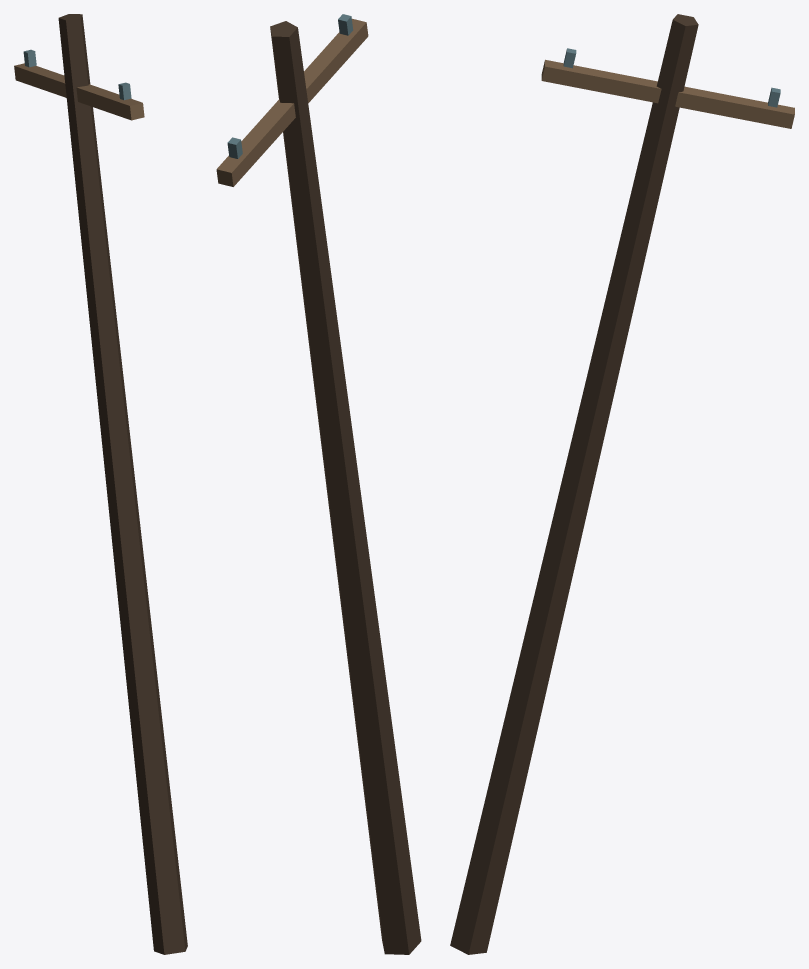
The model's file is power_pole_leaning_lod1.glb.
3 views of the same model, side by side, from view 1: azimuth 30°, elevation 25°; view 2: azimuth 150°, elevation 25°; view 3: azimuth 270°, elevation 25° (orthographic). The views are drawn at different scales.
Visible parts, largest first — view 1: power_pole_leaning_lod1; view 2: power_pole_leaning_lod1; view 3: power_pole_leaning_lod1.
Boxes of the visible parts, <box> form: power_pole_leaning_lod1: <box>14,14,187,954</box>; power_pole_leaning_lod1: <box>216,14,421,954</box>; power_pole_leaning_lod1: <box>450,14,794,954</box>.
Bounding box in the file's own units: 0.3075 × 8.86 × 2.97.
2 materials, 2 textured.
